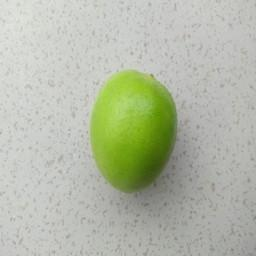Good_lime: (87, 65, 181, 196)
